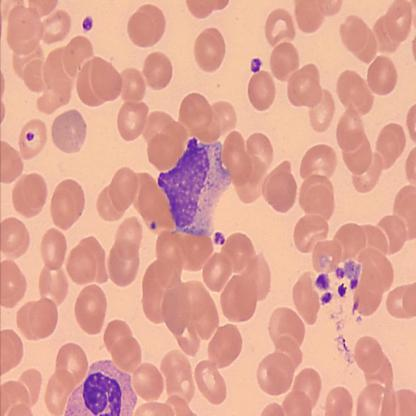Myelocyte: (155, 136, 237, 240), (61, 361, 136, 415)
